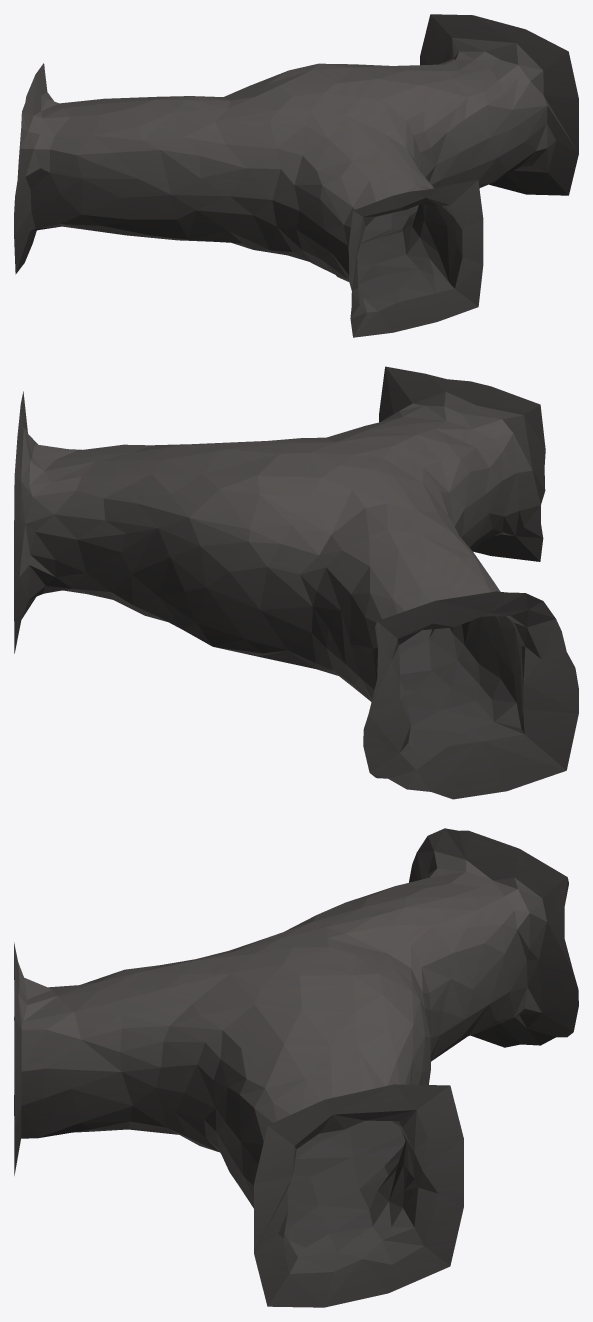
File: ZLP_Cave_B_10.FBX
3 renders of one model, top to bottom at view 1: azimuth 30°, elevation 25°; view 2: azimuth 150°, elevation 25°; view 3: azimuth 270°, elevation 25°, orthographic. The views are drawn at different scales.
Visible parts, largest first — view 1: ZLP_Cave_B_10; view 2: ZLP_Cave_B_10; view 3: ZLP_Cave_B_10.
Boxes of the visible parts, bbox=[...] form: ZLP_Cave_B_10: bbox=[14, 14, 578, 337]; ZLP_Cave_B_10: bbox=[14, 366, 578, 799]; ZLP_Cave_B_10: bbox=[14, 828, 578, 1307].
Bounding box in the file's own units: 2309 × 729 × 1776.
